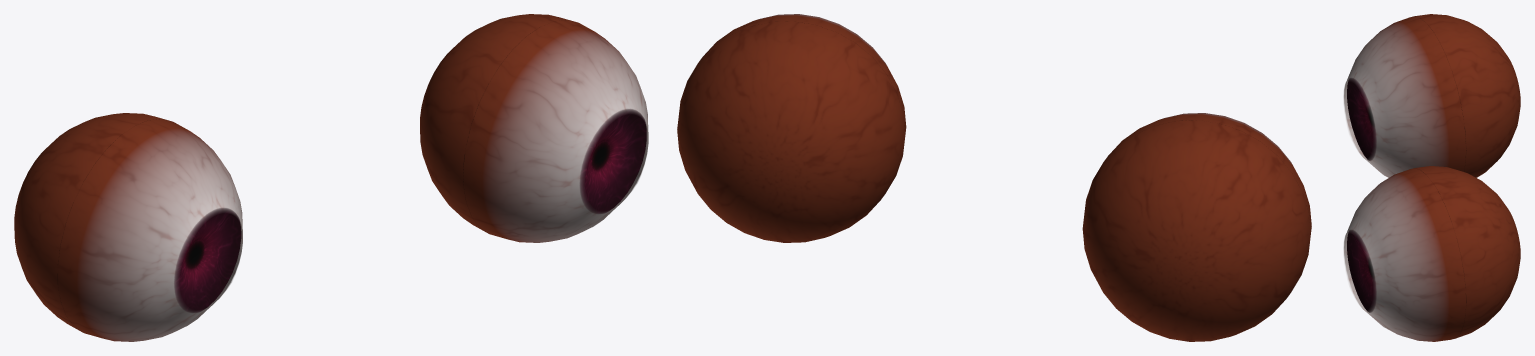
Rendered from procedural_eyes_for_ray_ii.glb.
3 renders of one model, left to right at view 1: azimuth 30°, elevation 25°; view 2: azimuth 150°, elevation 25°; view 3: azimuth 270°, elevation 25°, orthographic. The views are drawn at different scales.
Parts seen in each view (by area): view 1: EyeR, EyeL; view 2: EyeL, EyeR; view 3: EyeL, EyeR.
Part boxes in pixels (x1,y1,x2,y2): EyeR: (14,113,242,341); EyeL: (420,14,648,242); EyeL: (677,14,906,242); EyeR: (1082,113,1311,341); EyeL: (1343,166,1520,341); EyeR: (1343,14,1520,177).
Size of the model in its own units: 8.2 by 2.69 by 2.76.
Materials: 2 (2 with a texture image).
